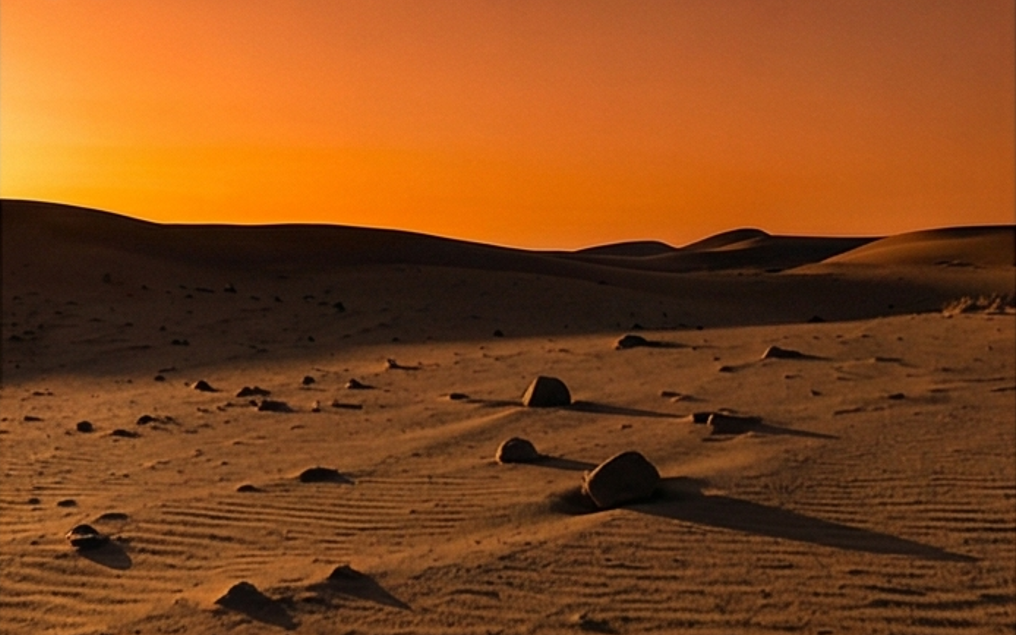rocks: (582, 451, 661, 508), (495, 437, 552, 463), (523, 376, 572, 406)
